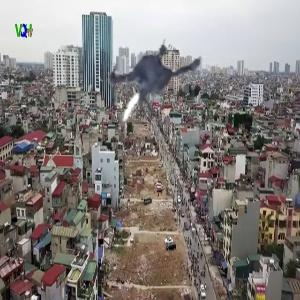drone: (85, 19, 213, 147)
